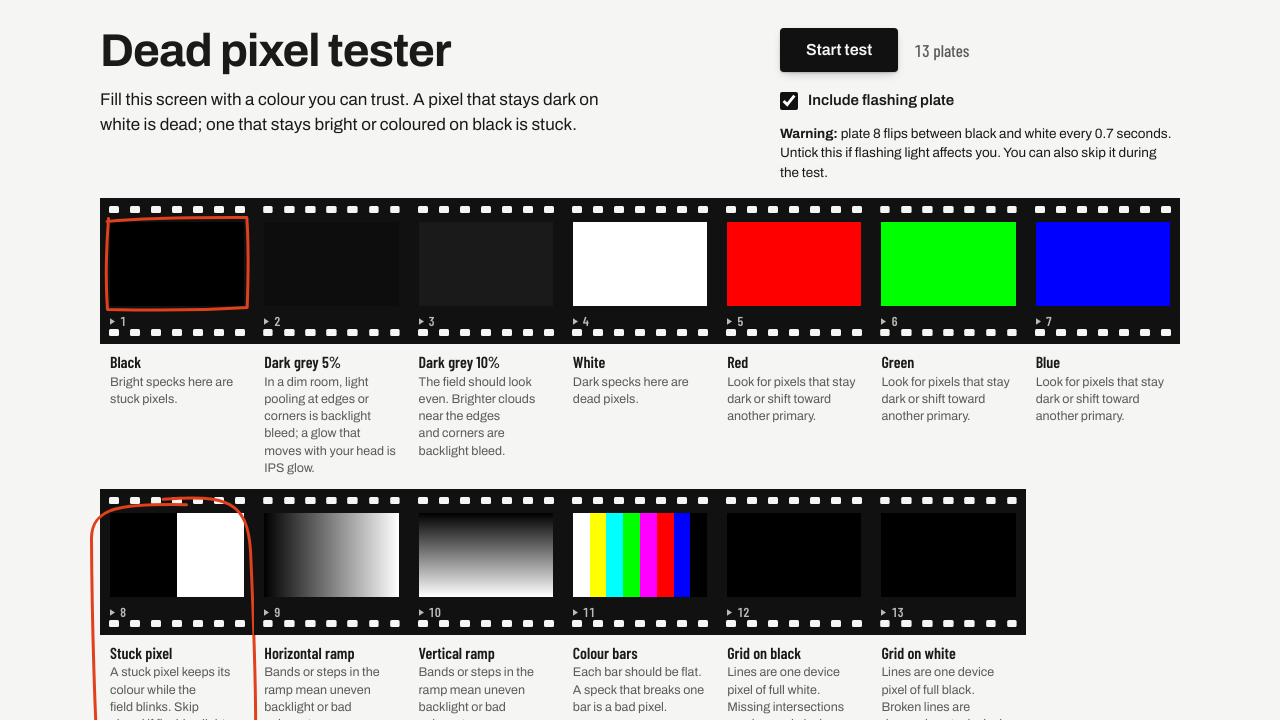
Test: starting from a frame › starts the test at the clicked frame in full screen
The width and height of the screenshot is (1280, 720).
Click the button "9": x=331, y=562 [254,489,409,635]
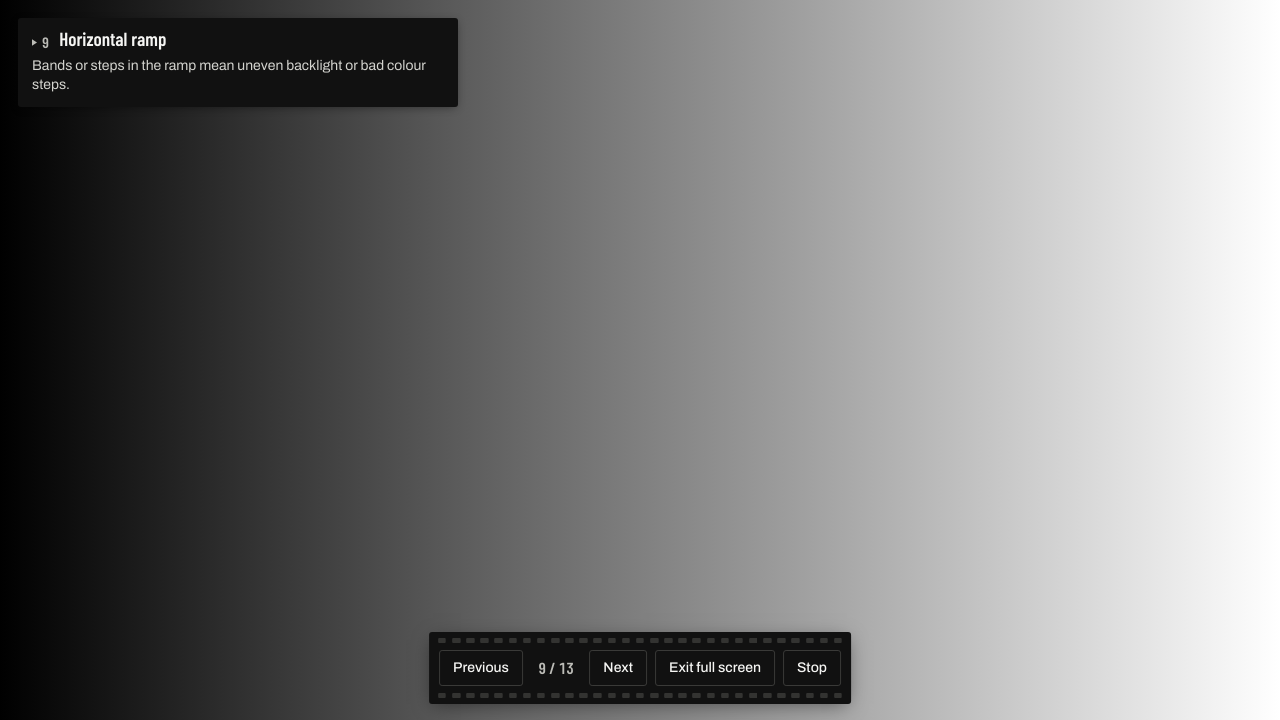
Check: the element with class "stage" is shown
